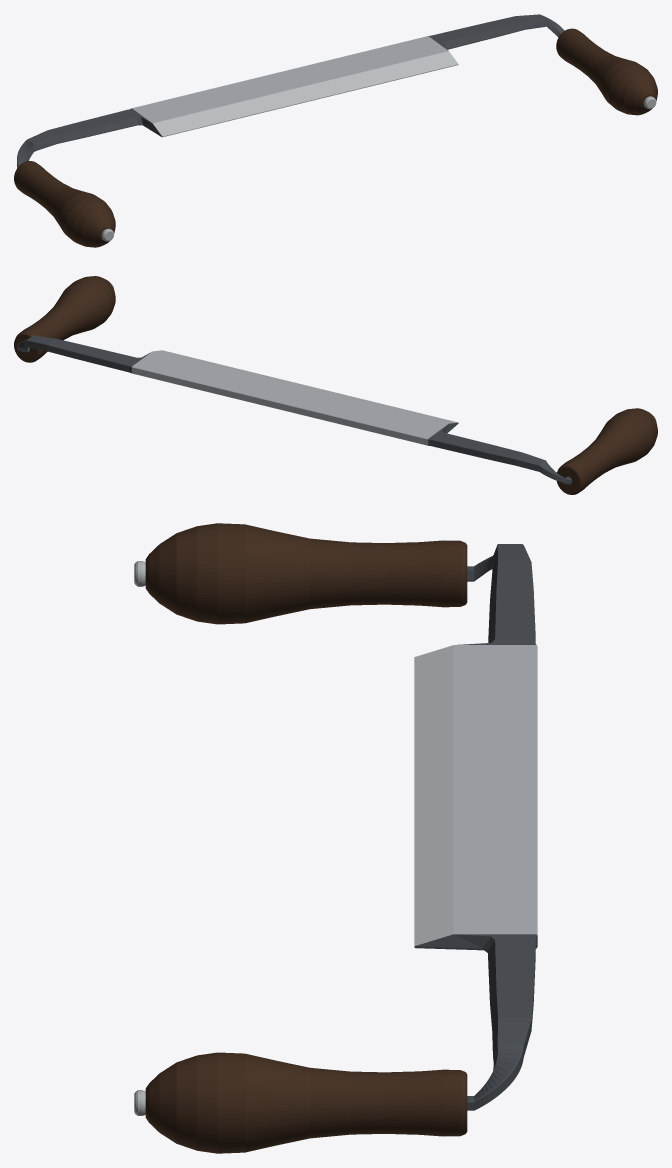
The picture shows the model from 3 angles, top to bottom: view 1: azimuth 30°, elevation 25°; view 2: azimuth 150°, elevation 25°; view 3: azimuth 270°, elevation 25°; orthographic projection. The views are drawn at different scales.
Visible parts, largest first — view 1: Continuous_steel_blade_arms_and_seated_tangs, Left_pear_wood_grip_with_through_bore, Right_pear_wood_grip_with_through_bore; view 2: Continuous_steel_blade_arms_and_seated_tangs, Left_pear_wood_grip_with_through_bore, Right_pear_wood_grip_with_through_bore; view 3: Continuous_steel_blade_arms_and_seated_tangs, Left_pear_wood_grip_with_through_bore, Right_pear_wood_grip_with_through_bore.
Boxes of the visible parts, x1,y1,x2,y2 form: Continuous_steel_blade_arms_and_seated_tangs: (17, 14, 564, 167); Left_pear_wood_grip_with_through_bore: (14, 161, 115, 247); Right_pear_wood_grip_with_through_bore: (556, 28, 657, 115); Continuous_steel_blade_arms_and_seated_tangs: (17, 335, 572, 484); Left_pear_wood_grip_with_through_bore: (556, 408, 657, 494); Right_pear_wood_grip_with_through_bore: (14, 276, 115, 362); Continuous_steel_blade_arms_and_seated_tangs: (414, 544, 537, 1110); Left_pear_wood_grip_with_through_bore: (145, 523, 467, 624); Right_pear_wood_grip_with_through_bore: (145, 1052, 467, 1153).
Bounding box in the file's own units: 0.3956 × 0.0306 × 0.1178.
